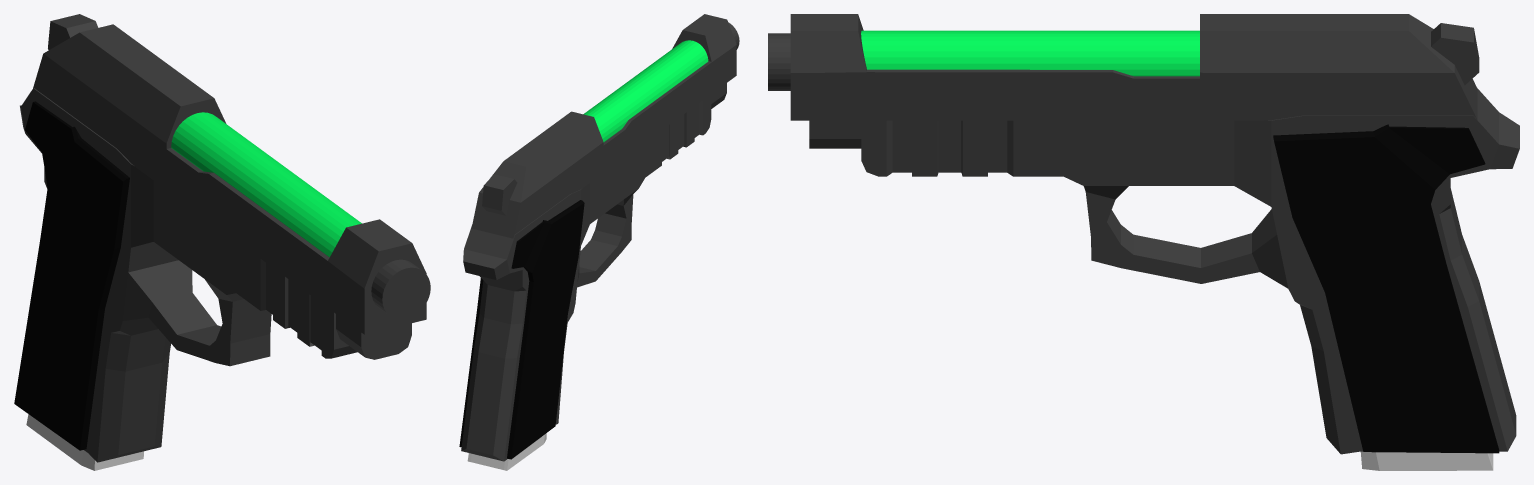
The model's file is beretta.fbx.
3 views of the same model, side by side, from view 1: azimuth 30°, elevation 25°; view 2: azimuth 150°, elevation 25°; view 3: azimuth 270°, elevation 25° (orthographic). The views are drawn at different scales.
Visible parts, largest first — view 1: mainFrame, slide, fuelRod, pewHole, mag, hammer; view 2: mainFrame, slide, fuelRod, hammer, mag; view 3: mainFrame, slide, fuelRod, mag, hammer, pewHole.
Part boxes in pixels (<box>): mainFrame: <box>14,88,411,462</box>; slide: <box>33,24,426,334</box>; fuelRod: <box>171,112,361,257</box>; pewHole: <box>371,259,430,319</box>; mag: <box>26,414,143,470</box>; hammer: <box>48,14,98,49</box>; mainFrame: <box>459,83,726,461</box>; slide: <box>471,14,736,238</box>; fuelRod: <box>583,40,708,142</box>; hammer: <box>482,174,517,215</box>; mag: <box>467,433,546,470</box>; mainFrame: <box>809,88,1519,454</box>; slide: <box>790,14,1477,120</box>; fuelRod: <box>861,30,1199,76</box>; mag: <box>1360,451,1493,470</box>; hammer: <box>1431,23,1479,85</box>; pewHole: <box>768,33,790,90</box>.
Bounding box in the file's own units: 162 × 841 × 1319.
